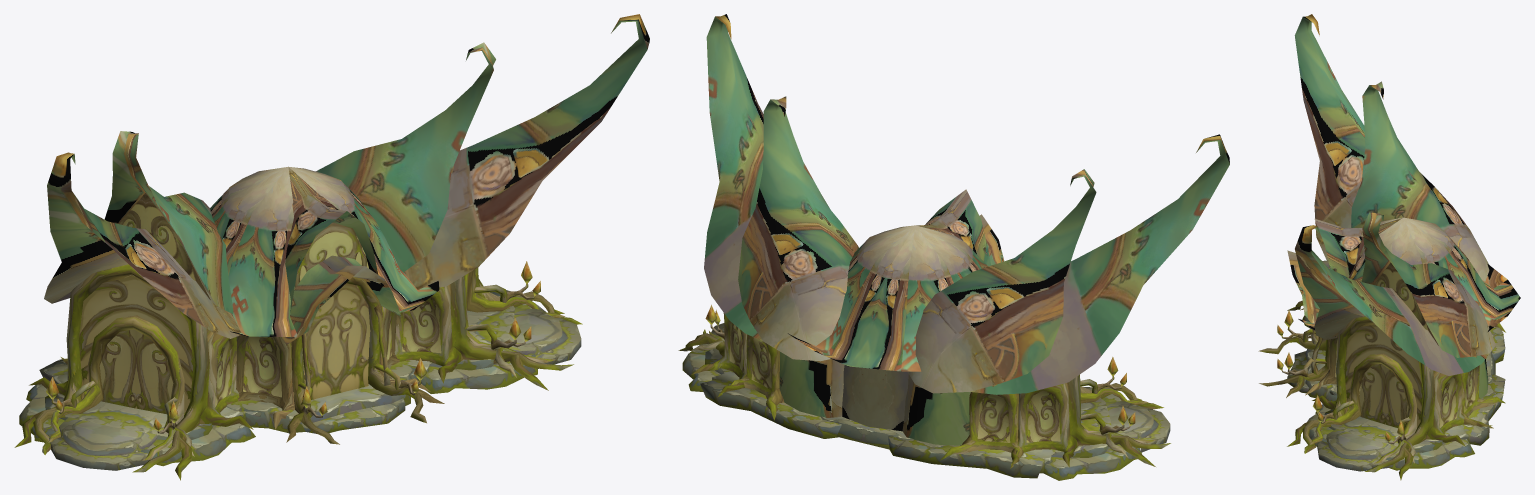
Rendered from Map_07_house05.FBX.
The picture shows the model from 3 angles, left to right: view 1: azimuth 30°, elevation 25°; view 2: azimuth 150°, elevation 25°; view 3: azimuth 270°, elevation 25°; orthographic projection. The views are drawn at different scales.
Parts seen in each view (by area): view 1: Map_07_house05b, Map_07_house05a; view 2: Map_07_house05a, Map_07_house05b; view 3: Map_07_house05a, Map_07_house05b.
Part boxes in pixels (box(x1,y1,x2,y2)): Map_07_house05b: box(14, 193, 582, 480); Map_07_house05a: box(44, 14, 649, 344); Map_07_house05a: box(704, 14, 1229, 445); Map_07_house05b: box(678, 305, 1170, 480); Map_07_house05a: box(1287, 14, 1520, 398); Map_07_house05b: box(1258, 262, 1505, 480).
Bounding box in the file's own units: 1807 × 989 × 899.
